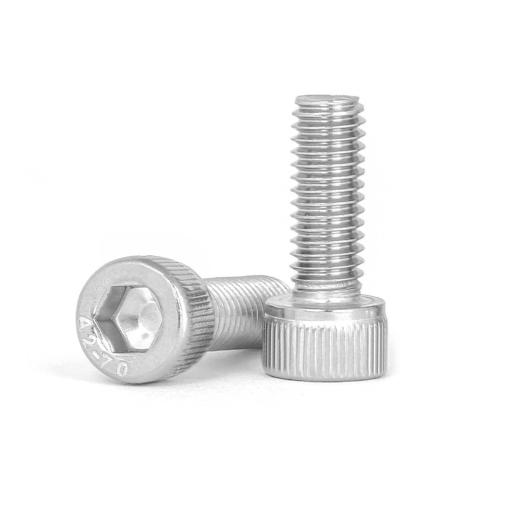Hex-Allen: (73, 253, 213, 388)
